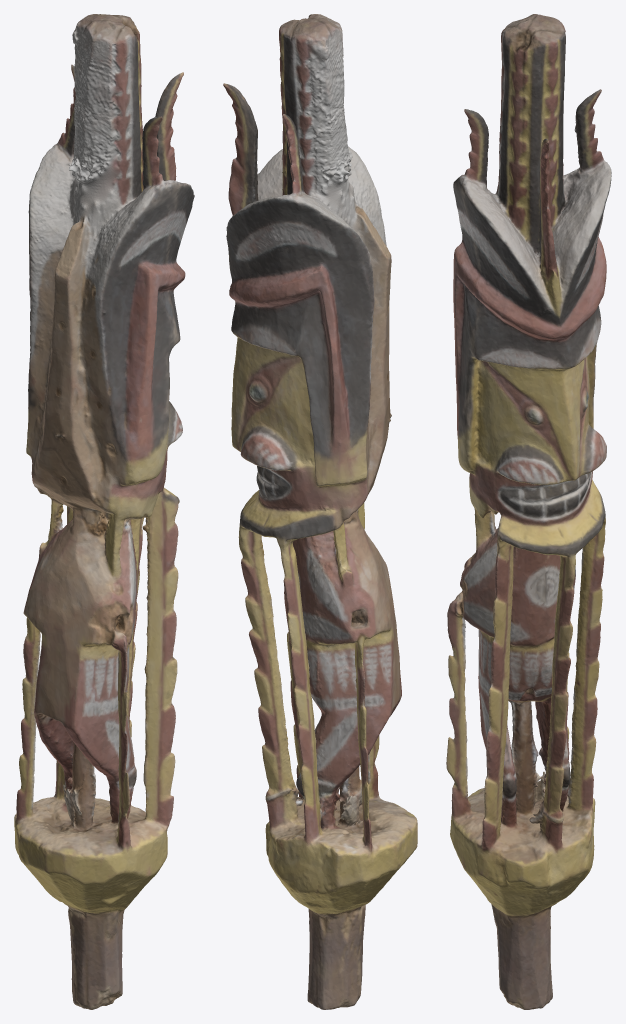
The model's file is preview.glb.
3 views of the same model, side by side, from view 1: azimuth 30°, elevation 25°; view 2: azimuth 150°, elevation 25°; view 3: azimuth 270°, elevation 25° (orthographic).
Parts seen in each view (by area): view 1: material-0-material; view 2: material-0-material; view 3: material-0-material.
Boxes of the visible parts, bbox=[...] form: material-0-material: bbox=[14, 14, 194, 1009]; material-0-material: bbox=[223, 14, 417, 1009]; material-0-material: bbox=[446, 14, 611, 1009].
Size of the model in its own units: 354 by 1946 by 295.
